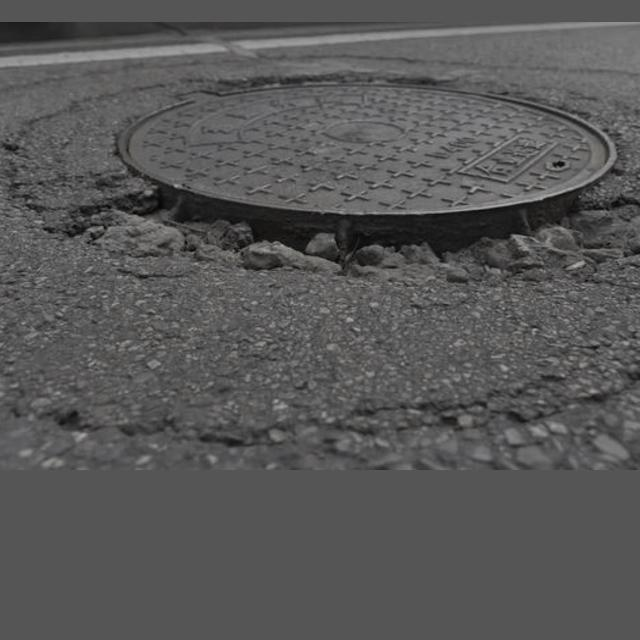circle: (9, 65, 640, 307)
